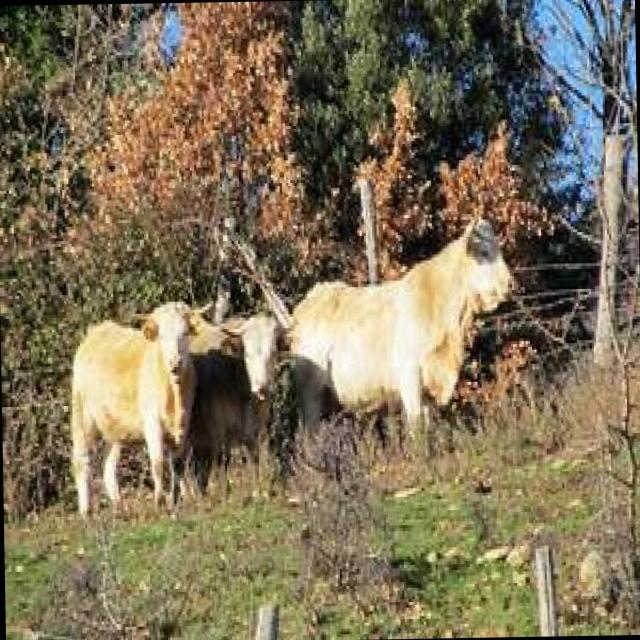sheep: (280, 190, 529, 467), (68, 298, 212, 516), (214, 289, 294, 455)
